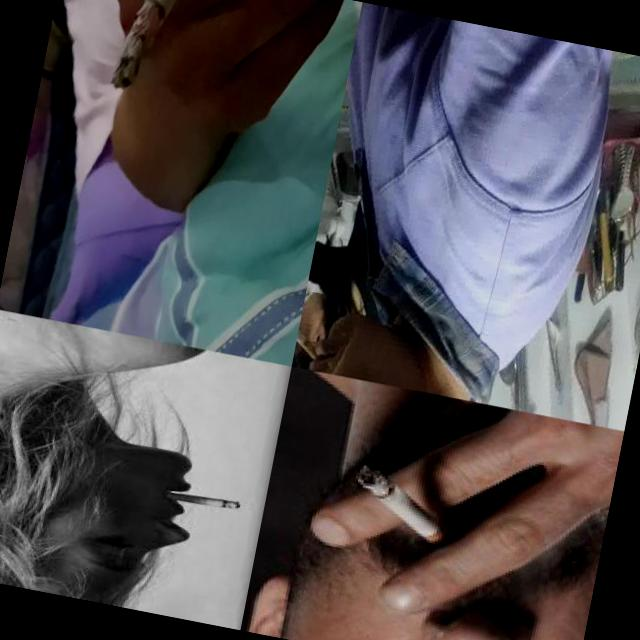smoke: (107, 0, 213, 103), (352, 468, 458, 548), (164, 488, 242, 513), (294, 315, 327, 362)
